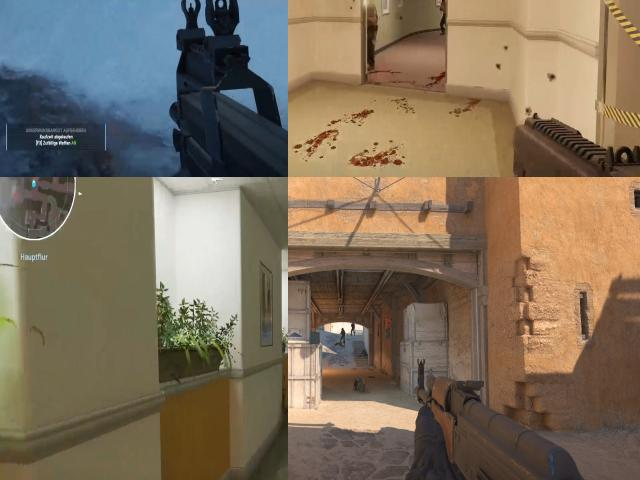CT: (341, 328, 345, 344), (351, 324, 355, 336)
CT-Head: (342, 328, 344, 331)
Dead: (355, 377, 365, 391), (335, 340, 345, 346), (362, 350, 368, 358)
T: (366, 0, 379, 66), (440, 0, 448, 31)
T-Head: (441, 0, 446, 3)
